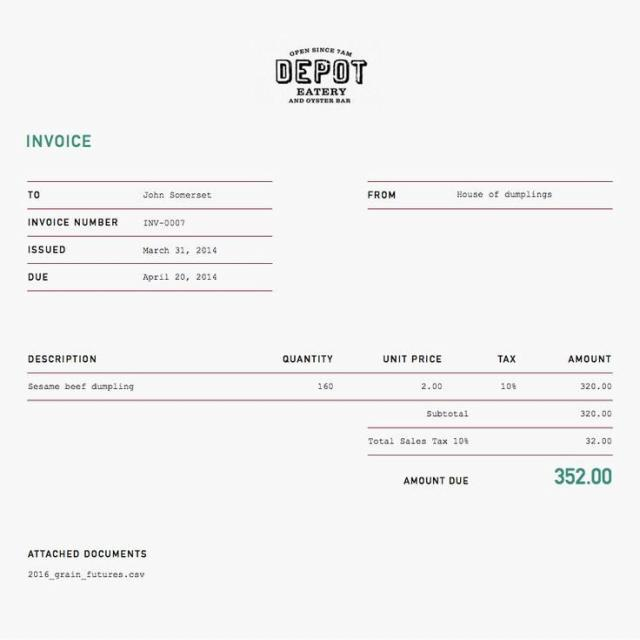customer_name: (140, 188, 218, 202)
due_date: (137, 269, 226, 286)
invoice_date: (137, 241, 225, 260)
invoice_number: (142, 216, 190, 232)
invoice_subtotal: (574, 406, 620, 422)
invoice_total: (548, 465, 618, 488)
item_description: (25, 378, 142, 394)
item_quantity: (312, 377, 338, 396)
item_total_price: (574, 379, 618, 392)
item_unit_price: (414, 378, 451, 395)
supplier_name: (454, 189, 554, 199)
tax_amount: (582, 434, 616, 449)
tax_rate: (452, 433, 473, 448)
